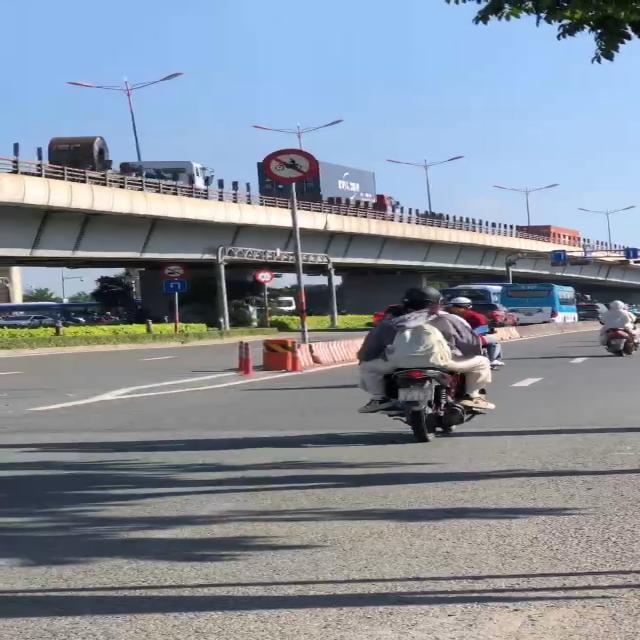Bien bao cam xe may: (258, 145, 324, 187)
